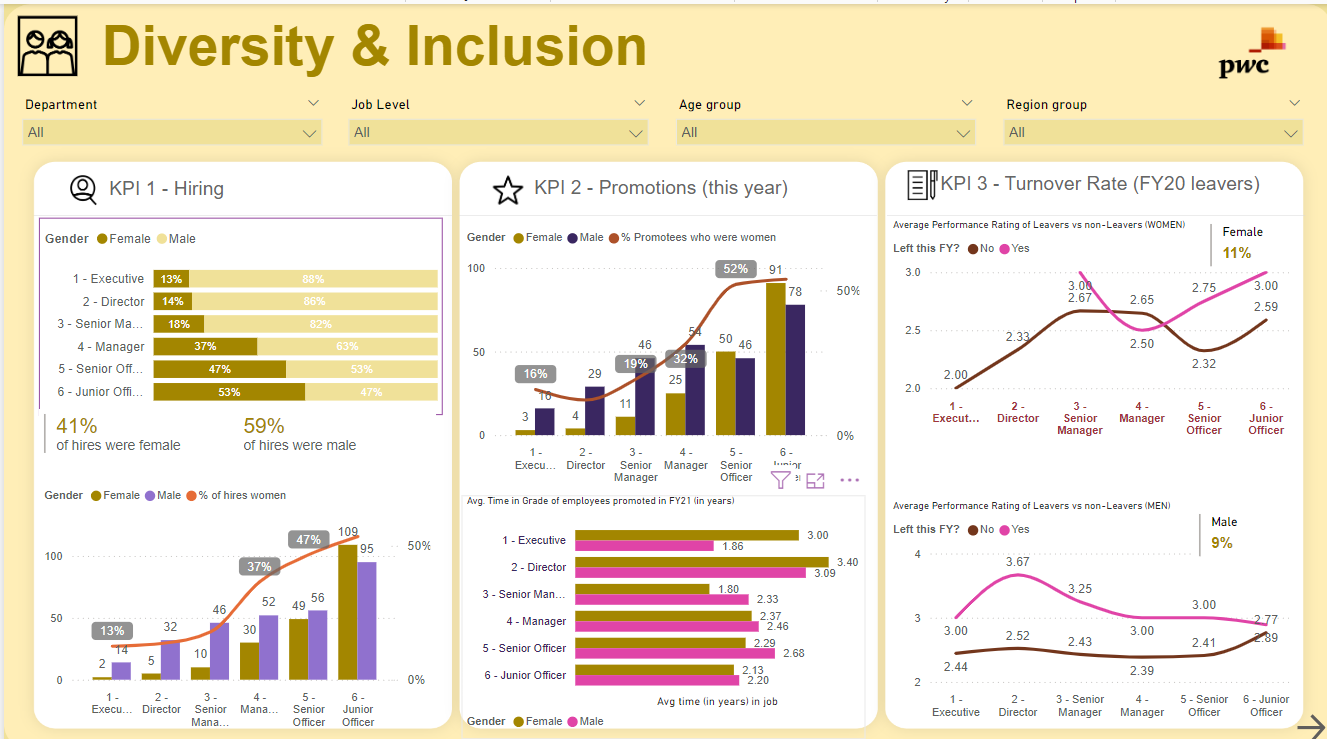

The dashboard page shown, as its layout file describes it:
{"tool":"powerbi","page":{"name":"HR Manager (1/2)","canvas":[1280,720],"ordinal":0},"visuals":[{"type":"hundredPercentStackedBarChart","fields":{"Series":["HR Manager.Gender"],"Y":["CountNonNull(HR Manager.Employee ID)"],"Category":["HR Manager.Job Level after FY20 promotions"]},"box":[33.8,205.9,389.2,190.1],"z":0},{"type":"multiRowCard","fields":{"Values":["HR Manager.% of hires women","HR Manager.% of hires men"]},"box":[33.6,391,382.9,63.7],"z":1000},{"type":"lineClusteredColumnComboChart","fields":{"Category":["HR Manager.Job Level after FY20 promotions"],"Series":["HR Manager.Gender"],"Y":["CountNonNull(HR Manager.Employee ID)"],"Y2":["HR Manager.% of hires women"]},"box":[33.6,455.6,382.9,250.8],"z":2000},{"type":"textbox","box":[96.2,162.3,315.4,35.7],"z":3000},{"type":"textbox","box":[507.2,161.6,315.4,35.7],"z":4000},{"type":"image","box":[467.3,159.3,39.5,40.5],"z":5000},{"type":"lineClusteredColumnComboChart","fields":{"Y":["CountNonNull(HR Manager.Employee ID)"],"Series":["HR Manager.Gender"],"Y2":["HR Manager.% Promotees who were women"],"Category":["HR Manager.Job Level after FY21 promotions"]},"box":[442.1,207,389.2,263.2],"z":6000},{"type":"image","box":[1129,0,151,94.5],"z":7000},{"type":"image","box":[8.7,0,67.5,81],"z":8000},{"type":"image","box":[56.6,160.4,39.5,38.6],"z":9000},{"type":"textbox","box":[898.9,158.6,335.2,34.9],"z":10000},{"type":"clusteredBarChart","title":"Avg. Time in Grade of employees promoted in FY21 (in years)","fields":{"Category":["HR Manager.Job Level after FY20 promotions"],"Series":["HR Manager.Gender"],"Y":["Avg(HR Manager.Time in Job Level @01.07.2020)"]},"box":[441.8,473.6,389.7,236.3],"z":11000},{"type":"lineChart","title":"Average Performance Rating of Leavers vs non-Leavers (WOMEN)","fields":{"Category":["HR Manager.Job Level after FY20 promotions"],"Y":["Avg(HR Manager.FY19 Performance Rating)"],"Series":["HR Manager.FY20 leaver?"]},"box":[852.7,207.4,398.4,218],"z":12000},{"type":"lineChart","title":"Average Performance Rating of Leavers vs non-Leavers (MEN)","fields":{"Category":["HR Manager.Job Level after FY20 promotions"],"Y":["Avg(HR Manager.FY19 Performance Rating)"],"Series":["HR Manager.FY20 leaver?"]},"box":[852.7,479.4,398.4,218],"z":13000},{"type":"multiRowCard","fields":{"Values":["HR Manager.Gender","HR Manager.% Turnover"]},"box":[1159.9,207,93.4,51.8],"z":14000},{"type":"multiRowCard","fields":{"Values":["HR Manager.Gender","HR Manager.% Turnover"]},"box":[1148.8,487.1,93.6,52.1],"z":15000},{"type":"image","box":[863.1,155.8,47.3,38.6],"z":16000},{"type":"actionButton","box":[1243.1,679.1,36.9,40.2],"z":17000},{"type":"slicer","fields":{"Values":["HR Manager.Job Level after FY20 promotions"]},"box":[322.5,83.9,310,55.9],"z":18000},{"type":"slicer","fields":{"Values":["HR Manager.Age group"]},"box":[638.2,83.9,310,55.9],"z":19000},{"type":"slicer","fields":{"Values":["HR Manager.Last Department in FY20"]},"box":[6.8,83.9,310,55.9],"z":20000},{"type":"slicer","fields":{"Values":["HR Manager.Broad region group: nationality 1"]},"box":[954,83.9,310,55.9],"z":21000},{"type":"textbox","box":[88.7,4.8,1172.9,75.2],"z":22000}]}

Visuals, with their boxes in screenshot pixels (x1, y1, x2, y2), scaled from the page's 1280x720 canvas onto the 1327x739 screenshot:
hundredPercentStackedBarChart - HR Manager.Gender x CountNonNull(HR Manager.Employee ID): region(35, 211, 439, 406)
multiRowCard - HR Manager.% of hires women x HR Manager.% of hires men: region(35, 401, 432, 467)
lineClusteredColumnComboChart - HR Manager.Job Level after FY20 promotions x HR Manager.Gender: region(35, 468, 432, 725)
textbox: region(100, 167, 427, 203)
textbox: region(526, 166, 853, 203)
image: region(484, 164, 525, 205)
lineClusteredColumnComboChart - CountNonNull(HR Manager.Employee ID) x HR Manager.Gender: region(458, 212, 862, 483)
image: region(1170, 0, 1326, 97)
image: region(9, 0, 79, 83)
image: region(59, 165, 100, 204)
textbox: region(932, 163, 1279, 199)
"Avg. Time in Grade of employees promoted in FY21 (in years)" clusteredBarChart: region(458, 486, 862, 729)
"Average Performance Rating of Leavers vs non-Leavers (WOMEN)" lineChart: region(884, 213, 1297, 437)
"Average Performance Rating of Leavers vs non-Leavers (MEN)" lineChart: region(884, 492, 1297, 716)
multiRowCard - HR Manager.Gender x HR Manager.% Turnover: region(1202, 212, 1299, 266)
multiRowCard - HR Manager.Gender x HR Manager.% Turnover: region(1191, 500, 1288, 553)
image: region(895, 160, 944, 200)
actionButton: region(1289, 697, 1326, 738)
slicer - HR Manager.Job Level after FY20 promotions: region(334, 86, 656, 143)
slicer - HR Manager.Age group: region(662, 86, 983, 143)
slicer - HR Manager.Last Department in FY20: region(7, 86, 328, 143)
slicer - HR Manager.Broad region group: nationality 1: region(989, 86, 1310, 143)
textbox: region(92, 5, 1308, 82)
